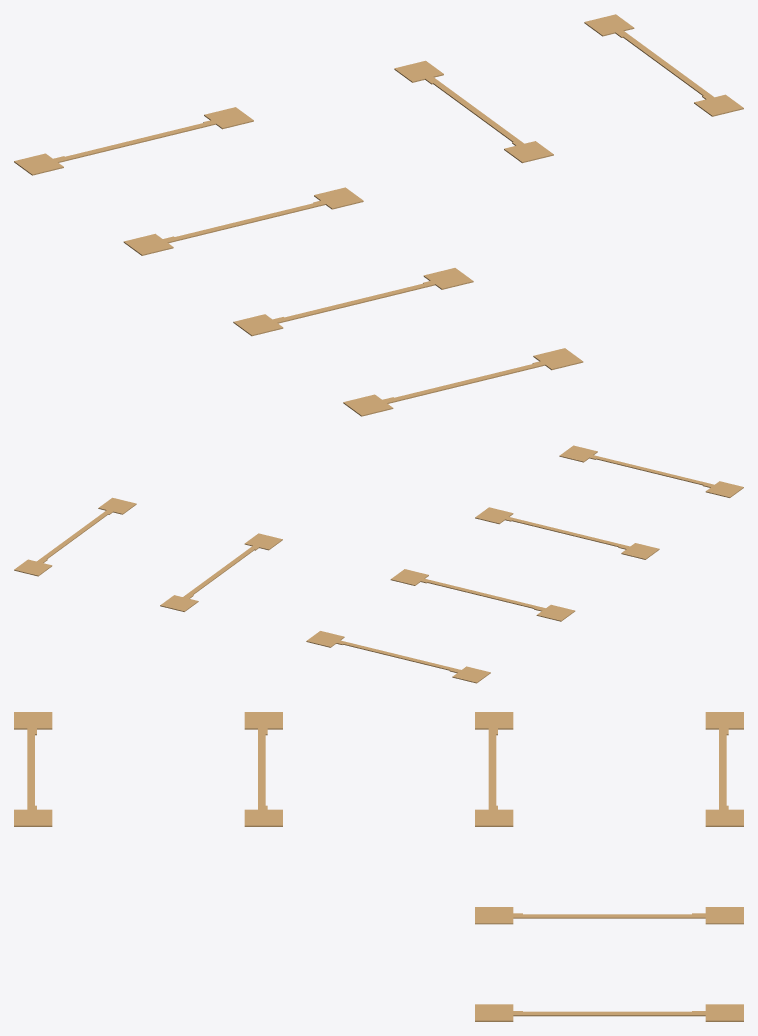
Rendered from board.glb.
3 renders of one model, top to bottom at view 1: azimuth 30°, elevation 25°; view 2: azimuth 150°, elevation 25°; view 3: azimuth 270°, elevation 25°, orthographic. The views are drawn at different scales.
Parts seen in each view (by area): view 1: Unified_Net_6_Island_7, Unified_Net_2_Island_9, Unified_Net_1_Island_1, Unified_Net_3_Island_6, Unified_Net_5_Island_0, Unified_Net_4_Island_3; view 2: Unified_Net_6_Island_7, Unified_Net_1_Island_1, Unified_Net_2_Island_9, Unified_Net_5_Island_0, Unified_Net_3_Island_6, Unified_Net_4_Island_3; view 3: Unified_Net_3_Island_6, Unified_Net_4_Island_3, Unified_Net_2_Island_9, Unified_Net_6_Island_7, Unified_Net_1_Island_1, Unified_Net_5_Island_0.
Part boxes in pixels (x1=…): Unified_Net_6_Island_7: x1=343, y1=348, x2=583, y2=416; Unified_Net_2_Island_9: x1=123, y1=187, x2=363, y2=255; Unified_Net_1_Island_1: x1=14, y1=107, x2=253, y2=175; Unified_Net_3_Island_6: x1=394, y1=60, x2=553, y2=163; Unified_Net_5_Island_0: x1=233, y1=268, x2=473, y2=336; Unified_Net_4_Island_3: x1=584, y1=14, x2=743, y2=116; Unified_Net_6_Island_7: x1=559, y1=445, x2=743, y2=497; Unified_Net_1_Island_1: x1=306, y1=631, x2=490, y2=683; Unified_Net_2_Island_9: x1=390, y1=569, x2=575, y2=621; Unified_Net_5_Island_0: x1=475, y1=507, x2=659, y2=559; Unified_Net_3_Island_6: x1=160, y1=533, x2=282, y2=611; Unified_Net_4_Island_3: x1=14, y1=497, x2=136, y2=576; Unified_Net_3_Island_6: x1=475, y1=907, x2=743, y2=924; Unified_Net_4_Island_3: x1=475, y1=1004, x2=743, y2=1021; Unified_Net_2_Island_9: x1=475, y1=712, x2=513, y2=826; Unified_Net_6_Island_7: x1=14, y1=712, x2=52, y2=826; Unified_Net_1_Island_1: x1=705, y1=712, x2=743, y2=826; Unified_Net_5_Island_0: x1=244, y1=712, x2=282, y2=826.
Size of the model in its own units: 0.019 by 3.5e-05 by 0.019.
